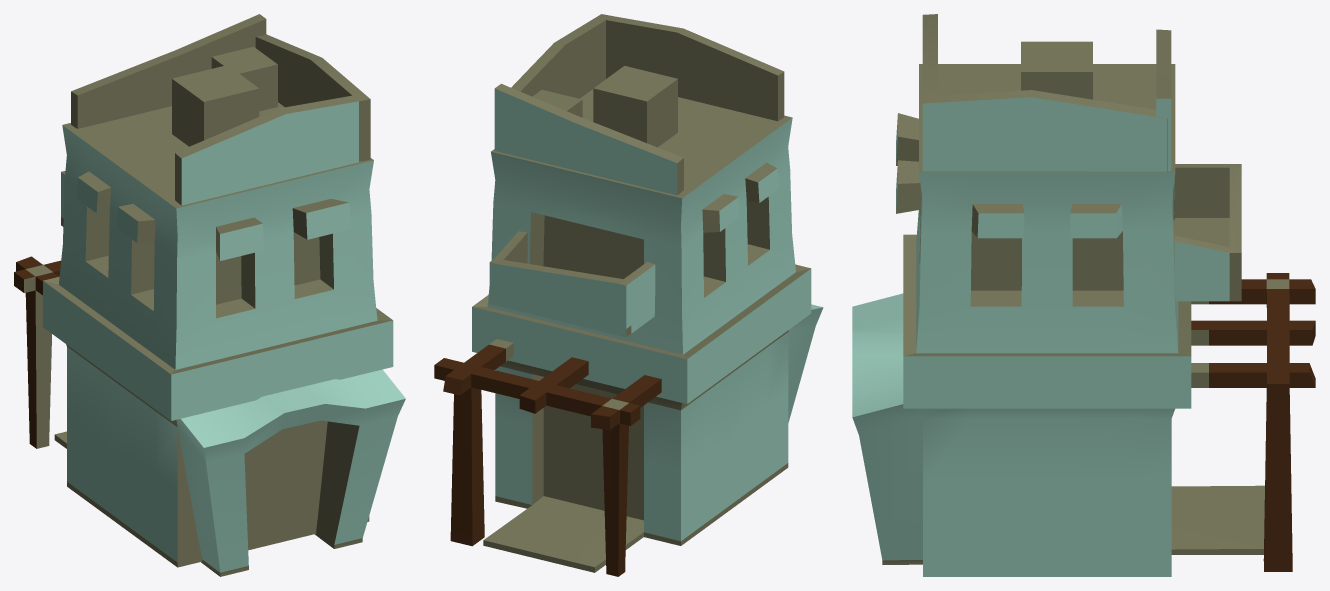
Rendered from house3.fbx.
3 views of the same model, side by side, from view 1: azimuth 30°, elevation 25°; view 2: azimuth 150°, elevation 25°; view 3: azimuth 270°, elevation 25° (orthographic). The views are drawn at different scales.
Visible parts, largest first — view 1: pCube12; view 2: pCube12; view 3: pCube12.
Boxes of the visible parts, box(x1,y1,x2,y2) form: pCube12: box(14, 14, 405, 576); pCube12: box(434, 14, 823, 576); pCube12: box(852, 14, 1315, 576).
Size of the model in its own units: 689 by 1253 by 1089.
